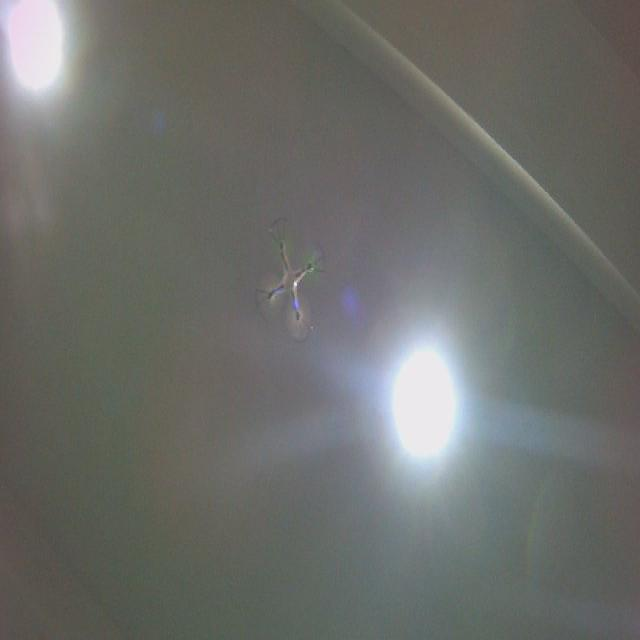drone: (252, 214, 329, 347)
